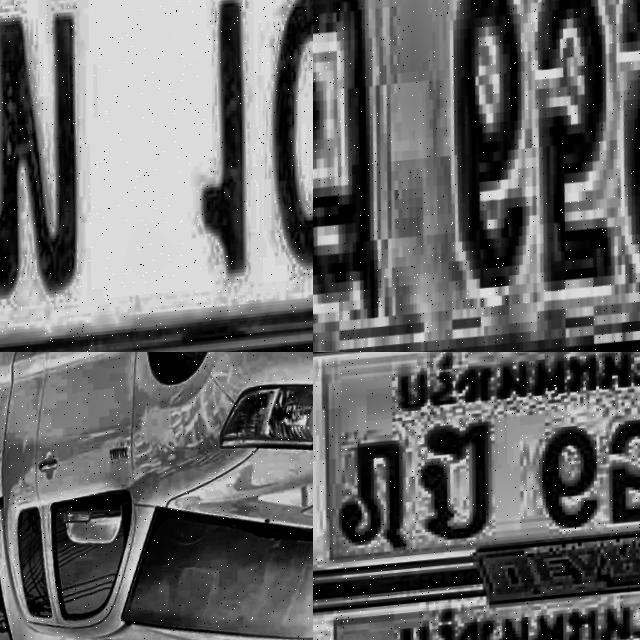license-plate: (313, 0, 640, 352), (0, 0, 313, 352), (313, 352, 640, 592), (313, 543, 640, 640)
